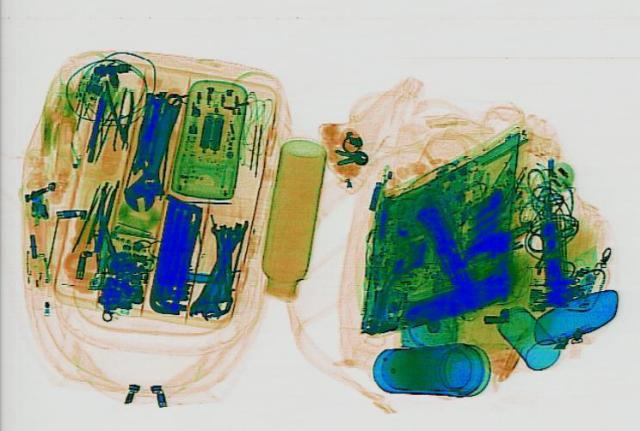Wrench: (116, 90, 196, 213)
